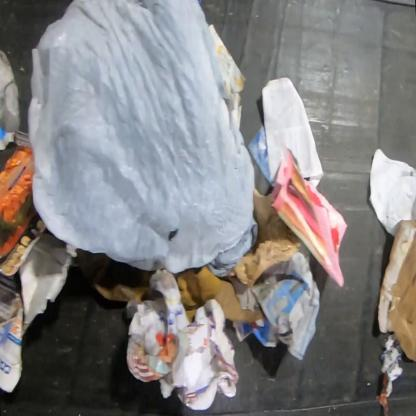cardboard: (172, 263, 265, 323), (77, 248, 150, 302)
soft_plastic: (27, 0, 258, 277), (0, 129, 45, 277)
